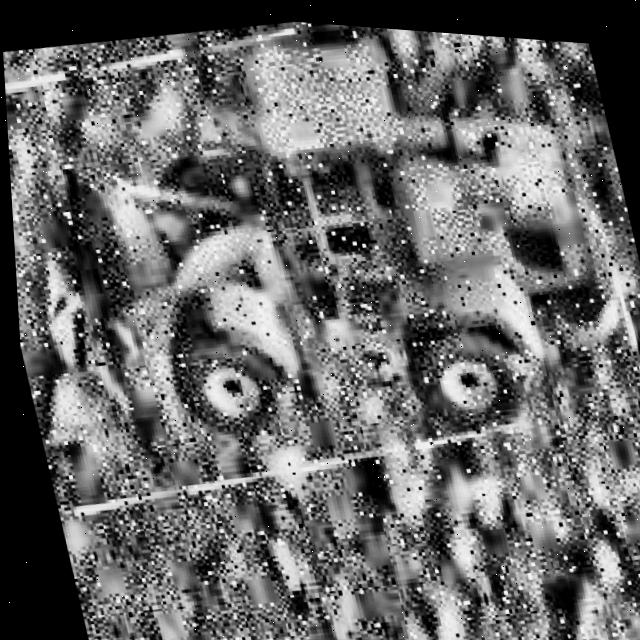buldozerpayloadergrader: (0, 0, 640, 539)
